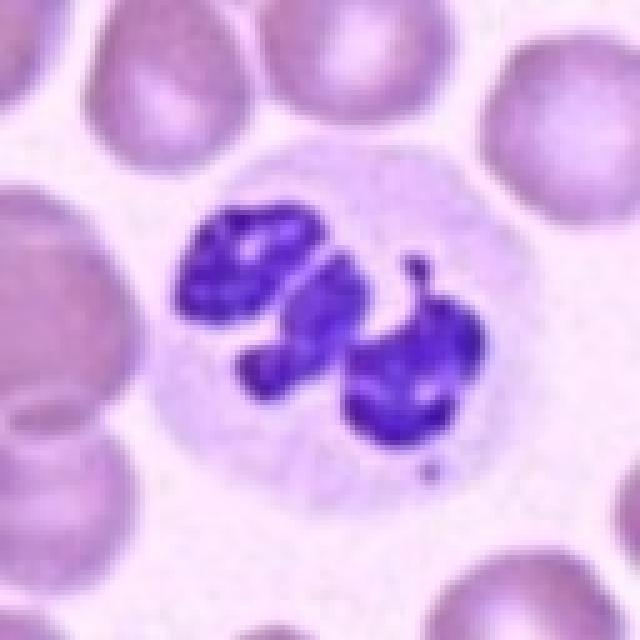neutro: (90, 20, 575, 485)
